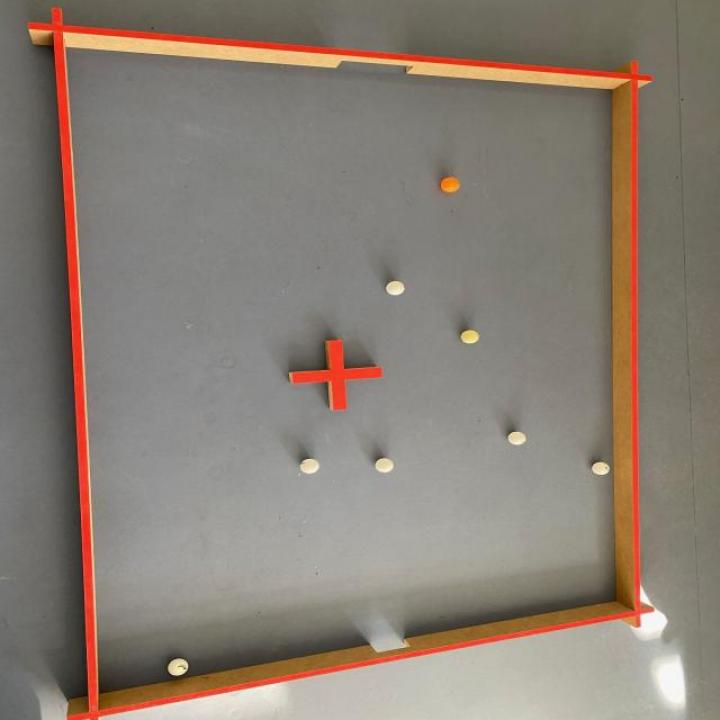orange: (438, 172, 464, 197)
white: (292, 454, 328, 479), (165, 652, 193, 681), (588, 456, 614, 482), (382, 277, 411, 300), (371, 455, 397, 478), (504, 430, 532, 448), (459, 326, 481, 346)
